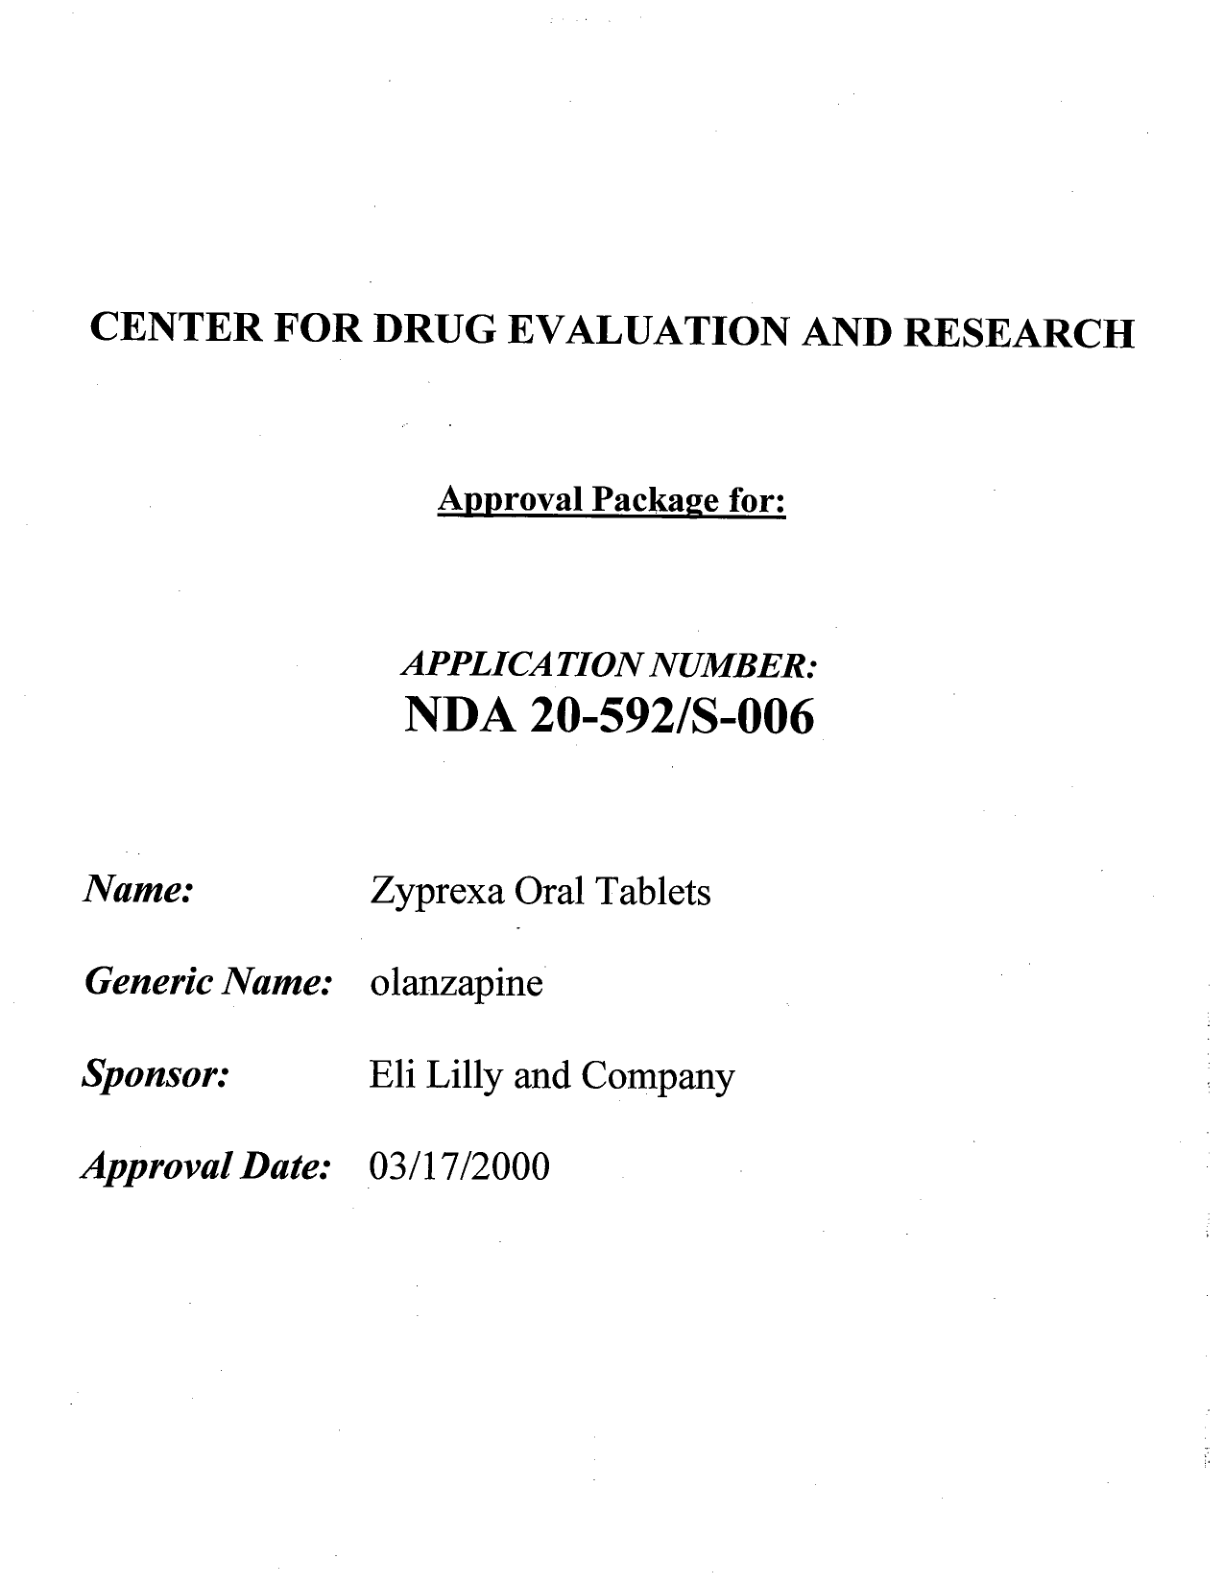nolines: (77, 867, 741, 1191)
